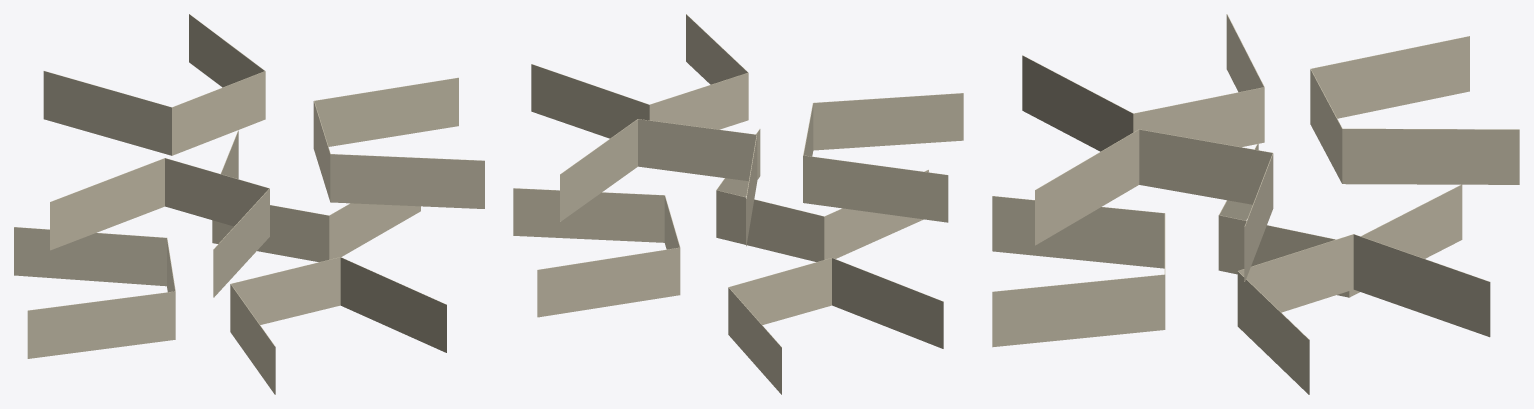
File: sidewall.glb
3 renders of one model, left to right at view 1: azimuth 30°, elevation 25°; view 2: azimuth 150°, elevation 25°; view 3: azimuth 270°, elevation 25°, orthographic. The views are drawn at different scales.
Parts seen in each view (by area): view 1: sidewall; view 2: sidewall; view 3: sidewall.
Part boxes in pixels (x1=…): sidewall: x1=14, y1=14, x2=484, y2=394; sidewall: x1=513, y1=14, x2=963, y2=394; sidewall: x1=992, y1=14, x2=1519, y2=394.
Size of the model in its own units: 9.22 by 4.02 by 8.65.
